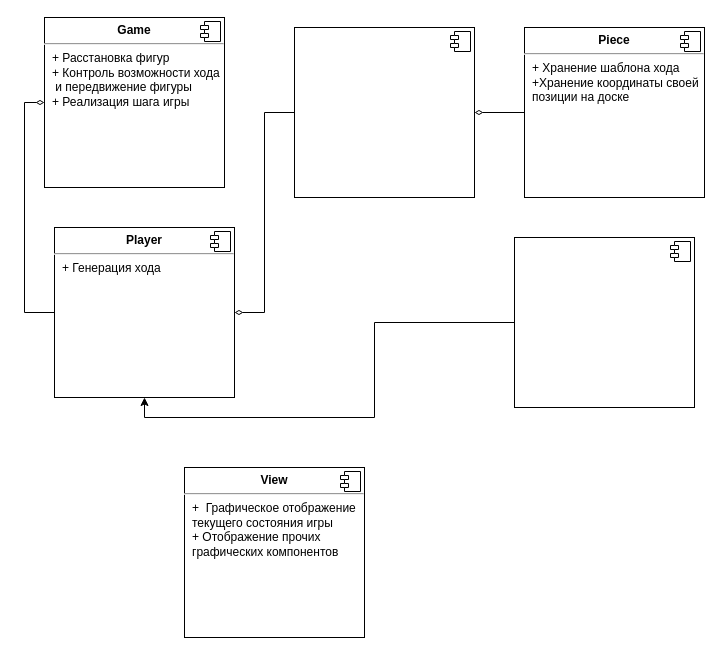
This 722x655 diagram has some shape labels left out. The shapes that lost their labels are listed below. From the top down, each one's box as (x1, y1, x2, y2) in pixels, then its label:
(294, 26, 474, 198): Field + Хранение фигур
(514, 236, 694, 408): User + Взаимодействие с графическими компонентами
